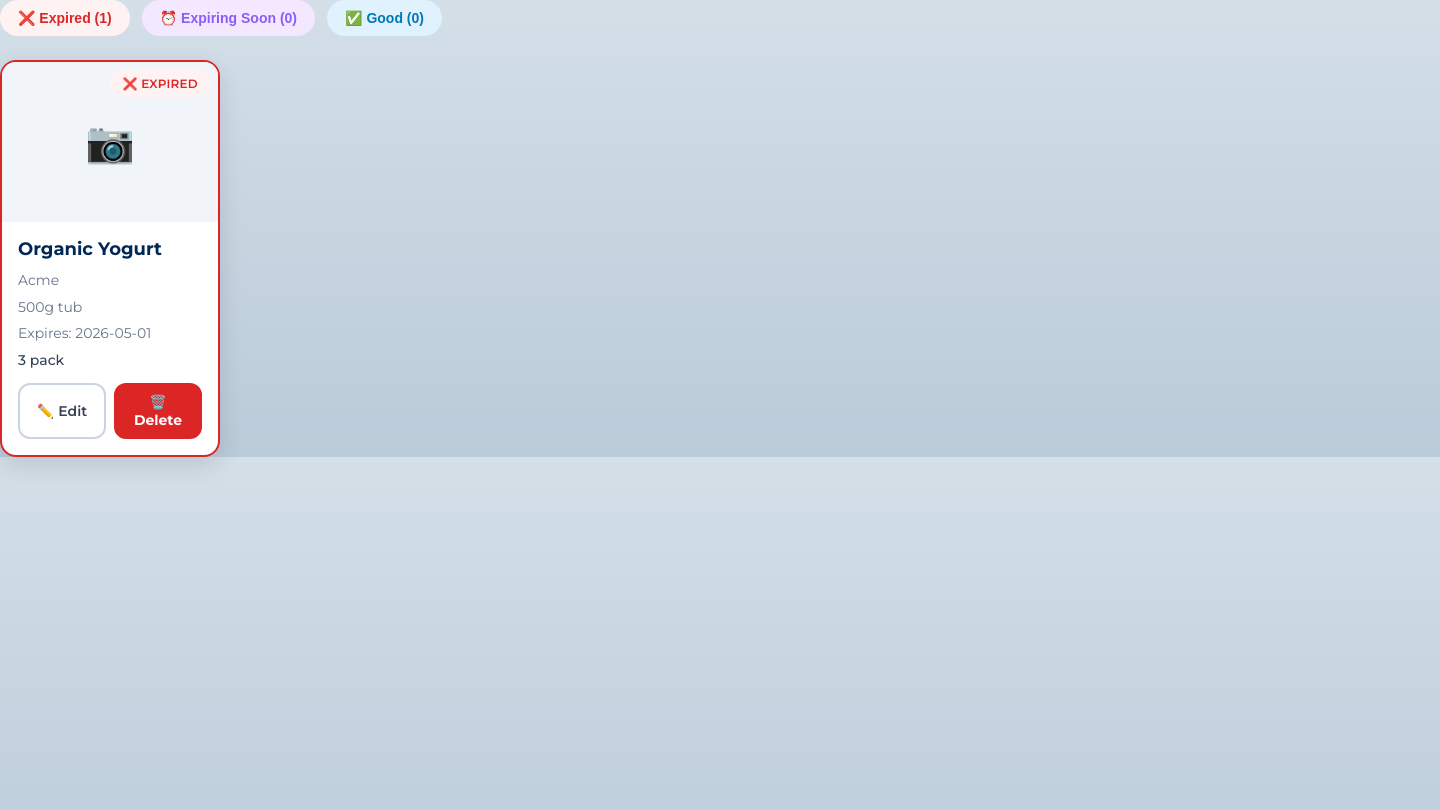
Test case: InventoryDashboard ProductCard accessibility › opens the edit overlay when the Edit control is activated
Check: the element with test id "inventory-grid" is shown, box [0,60,220,457]
Click the button with test id "edit-product-btn". click: [62, 411]
box: [18,383,106,439]
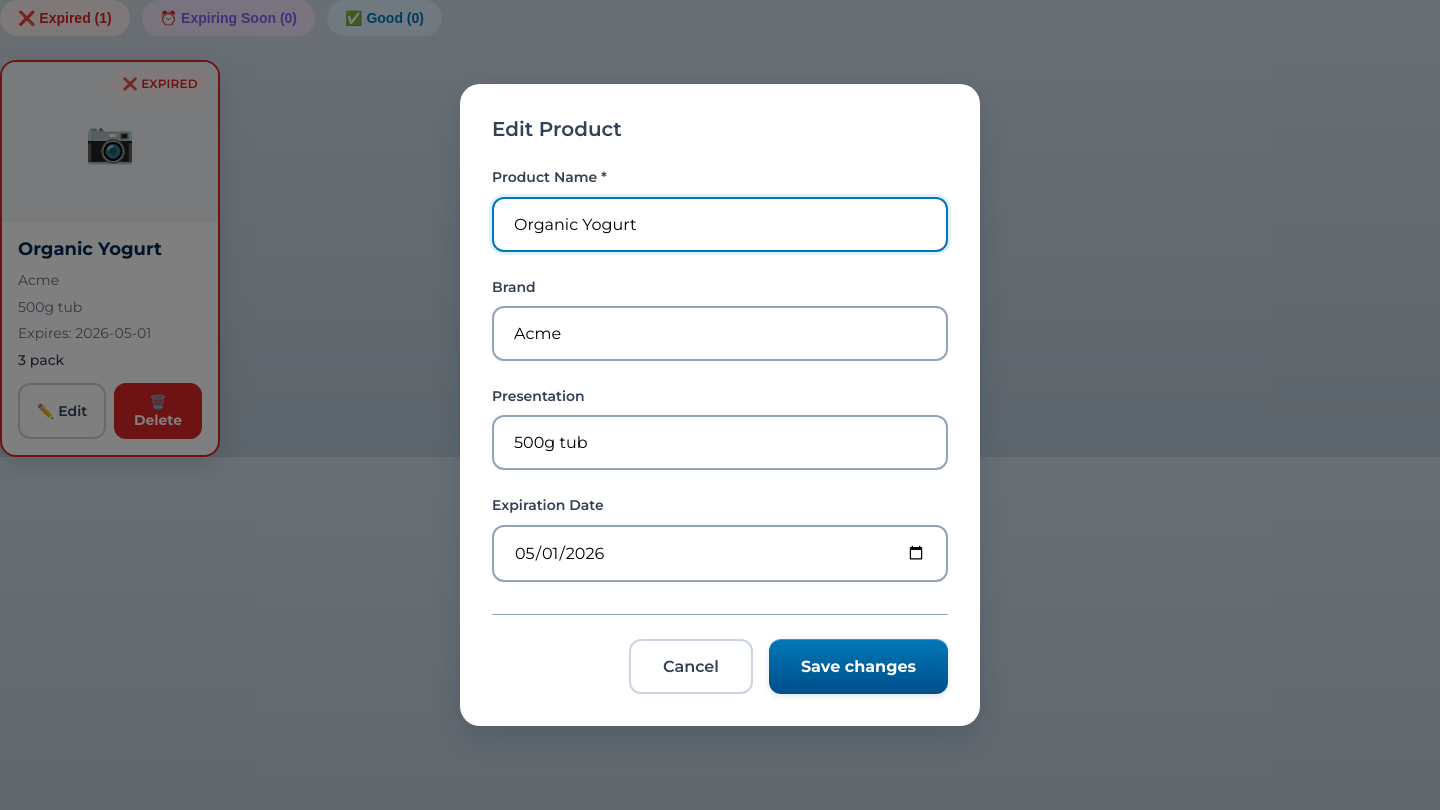
Check: the dialog is shown, box [460,84,980,726]
